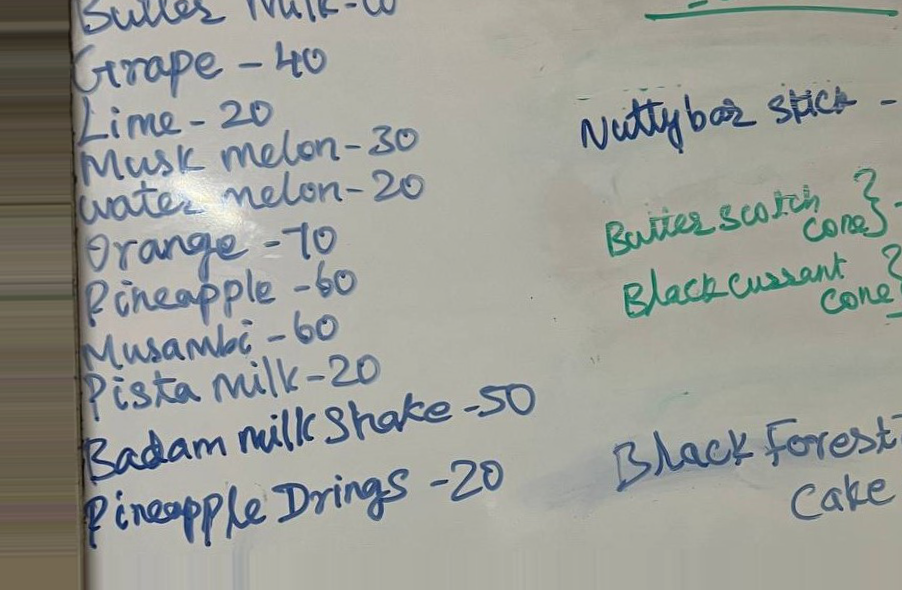badam milkshake - 50: (88, 410, 447, 486)
black current cone - 40: (621, 255, 902, 330)
black forest cake - 50: (609, 412, 902, 525)
butterscotch cone - 35: (600, 169, 902, 255)
grape - 40: (68, 31, 345, 91)
lime - 20: (73, 94, 289, 140)
musambi - 60: (84, 310, 343, 364)
musk melon - 30: (77, 133, 424, 181)
nutty bar - 30: (574, 76, 879, 152)
orange - 70: (86, 209, 342, 276)
pineapple - 60: (82, 262, 361, 317)
pineapple drink - 20: (85, 477, 478, 546)
pista milk - 20: (86, 366, 380, 411)
water melon - 20: (81, 169, 438, 230)
